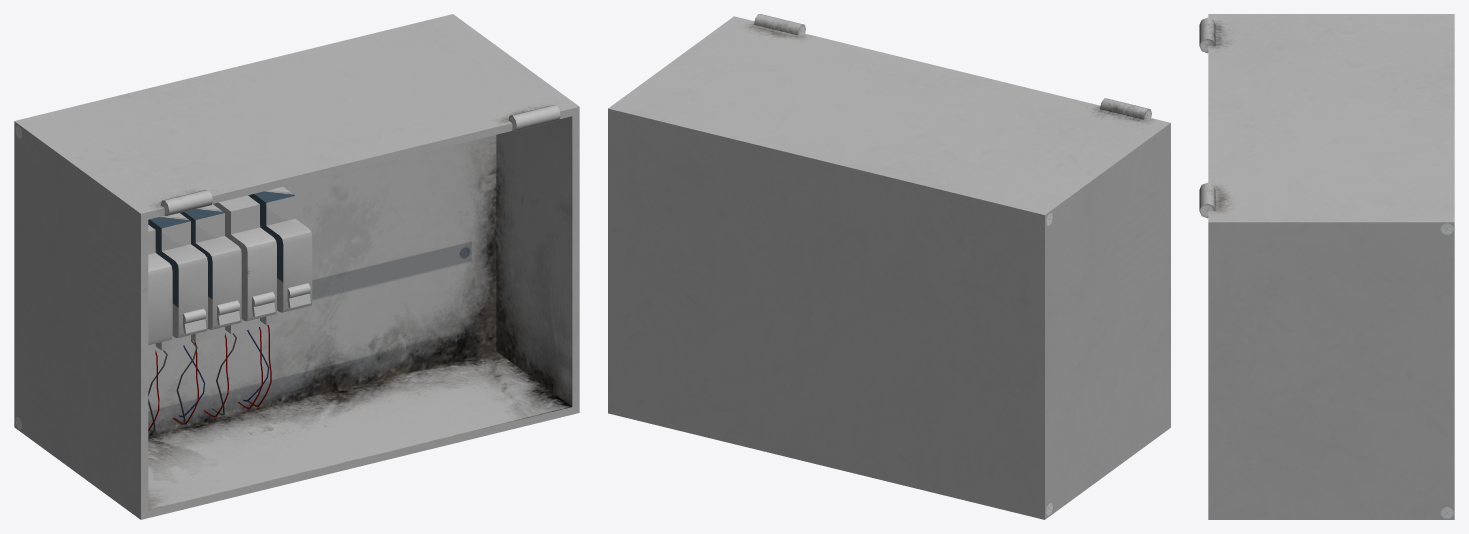
File: Fuzebox_02_body.FBX
3 views of the same model, side by side, from view 1: azimuth 30°, elevation 25°; view 2: azimuth 150°, elevation 25°; view 3: azimuth 270°, elevation 25° (orthographic). The views are drawn at different scales.
Visible parts, largest first — view 1: Fuzebox_02_body; view 2: Fuzebox_02_body; view 3: Fuzebox_02_body.
Boxes of the visible parts, x1,y1,x2,y2 form: Fuzebox_02_body: (14, 14, 579, 519); Fuzebox_02_body: (608, 14, 1170, 519); Fuzebox_02_body: (1199, 14, 1454, 519).
Bounding box in the file's own units: 30 × 15.55 × 20.51.
